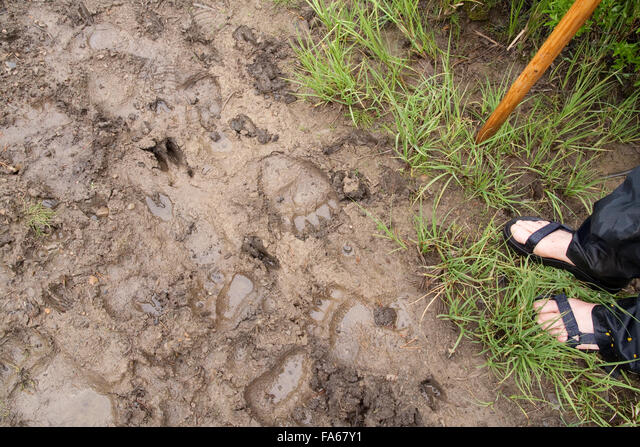bear: (249, 144, 363, 247), (284, 283, 409, 376)
